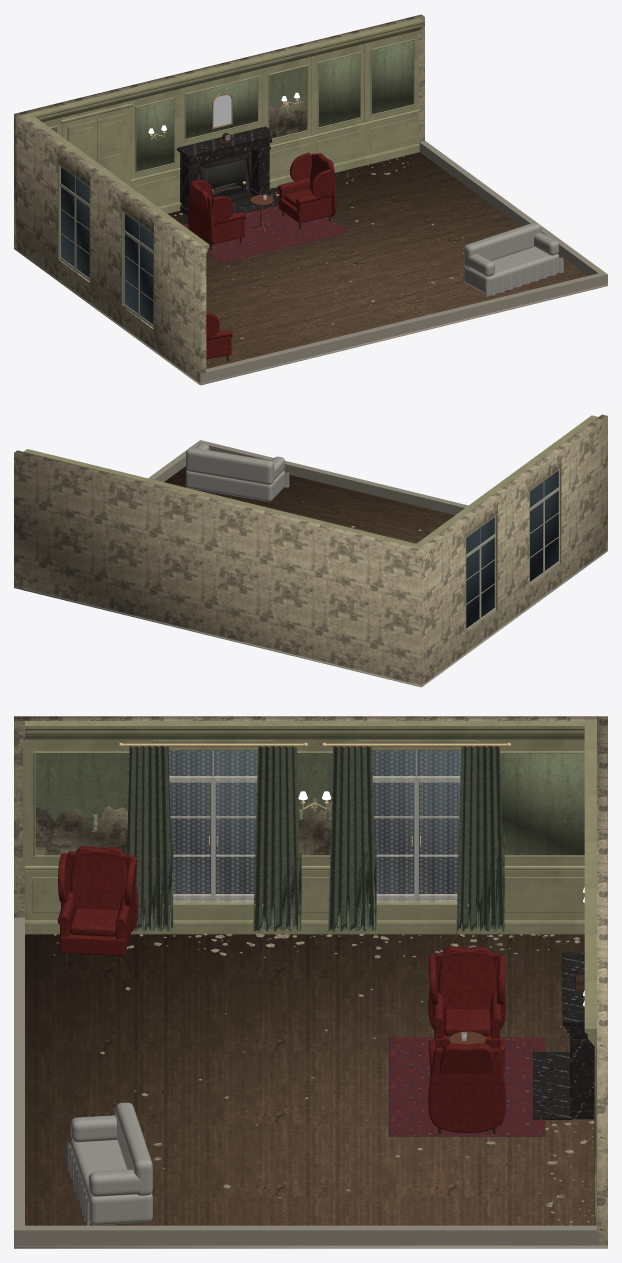
Rendered from room.glb.
3 renders of one model, top to bottom at view 1: azimuth 30°, elevation 25°; view 2: azimuth 150°, elevation 25°; view 3: azimuth 270°, elevation 25°, orthographic. The views are drawn at different scales.
Parts seen in each view (by area): view 1: floor, left_backing_0_ext, left_backing_4_ext, kerb_front_ext, left_backing_2_ext, back_cornice, rug, back_bay6_paper, back_bay5_paper, back_bay3_paper, win-1.25_glass, back_bay2_paper (+42 smaller); view 2: back_backing_ext, floor, left_backing_0_ext, left_backing_4_ext, left_backing_2_ext, win+1.35_glass, win-1.25_glass, settee_back, kerb_front, back_cornice_ext, settee_body, subfloor_ext (+6 smaller); view 3: floor, win-1.25_lace, win+1.35_lace, kerb_right_ext, win-1.25_glass, win+1.35_glass, left_bay4_paper, left_cornice, win+1.35_drape-1, win+1.35_drape1, win-1.25_drape1, rug (+46 smaller).
Boxes of the visible parts, box(x1,y1,x2,y2) form: floor: box(167, 152, 588, 368); left_backing_0_ext: box(154, 215, 206, 383); left_backing_4_ext: box(17, 115, 63, 278); kerb_front_ext: box(197, 272, 607, 383); left_backing_2_ext: box(90, 168, 126, 325); back_cornice: box(34, 21, 422, 122); rug: box(183, 205, 349, 262); back_bay6_paper: box(372, 39, 413, 114); back_bay5_paper: box(319, 52, 360, 127); back_bay3_paper: box(185, 76, 257, 138); win-1.25_glass: box(124, 214, 153, 324); back_bay2_paper: box(136, 97, 174, 171); back_backing_ext: box(14, 450, 424, 685); floor: box(164, 466, 454, 543); left_backing_0_ext: box(556, 414, 607, 582); left_backing_4_ext: box(419, 518, 465, 682); left_backing_2_ext: box(492, 472, 529, 629); win+1.35_glass: box(466, 517, 494, 628); win-1.25_glass: box(530, 471, 558, 581); settee_back: box(186, 447, 274, 484); kerb_front: box(208, 445, 464, 514); back_cornice_ext: box(23, 449, 422, 548); settee_body: box(186, 470, 284, 501); subfloor_ext: box(14, 549, 607, 687); floor: box(25, 934, 594, 1225); win-1.25_lace: box(168, 750, 257, 903); win+1.35_lace: box(372, 750, 460, 903); kerb_right_ext: box(25, 1225, 596, 1245); win-1.25_glass: box(168, 750, 257, 893); win+1.35_glass: box(372, 750, 460, 893); left_bay4_paper: box(500, 751, 584, 855); left_cornice: box(25, 726, 584, 741); win+1.35_drape-1: box(328, 746, 376, 931); win+1.35_drape1: box(456, 746, 504, 935); win-1.25_drape1: box(253, 746, 301, 931); rug: box(389, 1037, 545, 1136).
Bounding box in the file's own units: 9.6 × 3.04 × 7.6.
29 materials, 15 textured.
